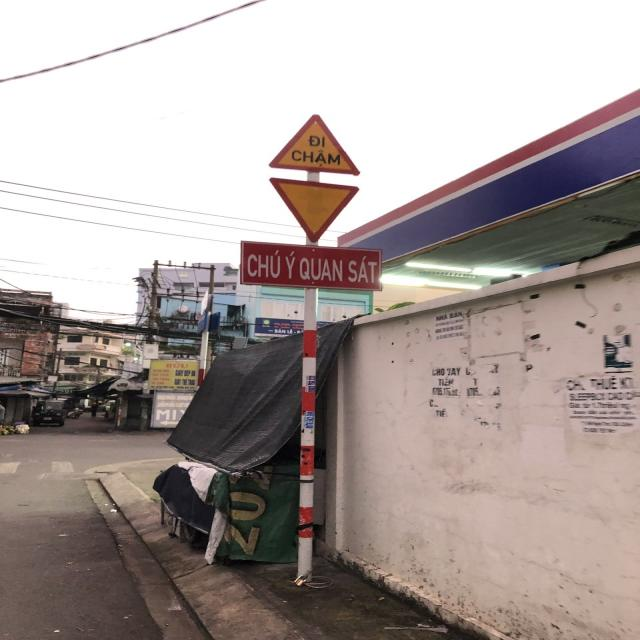Bien bao di cham: (258, 104, 383, 179)
Bien bao giao nhau voi duong uu tien: (261, 175, 365, 249)
